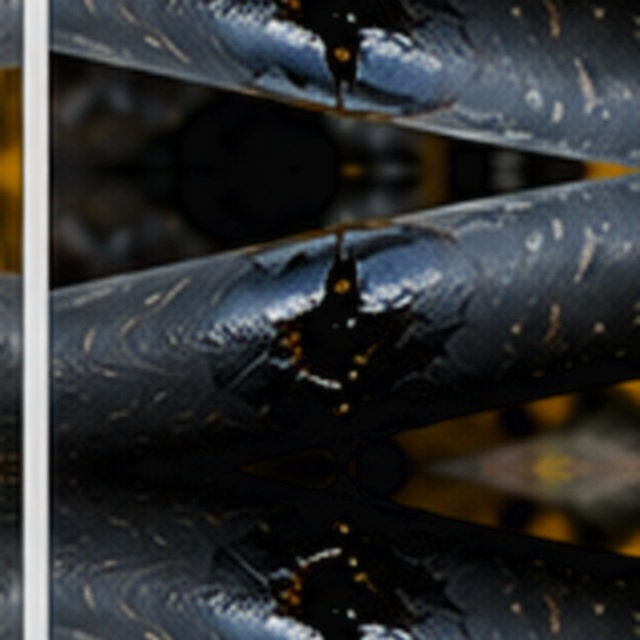hydraulic_oil_leak: (170, 218, 427, 471)
